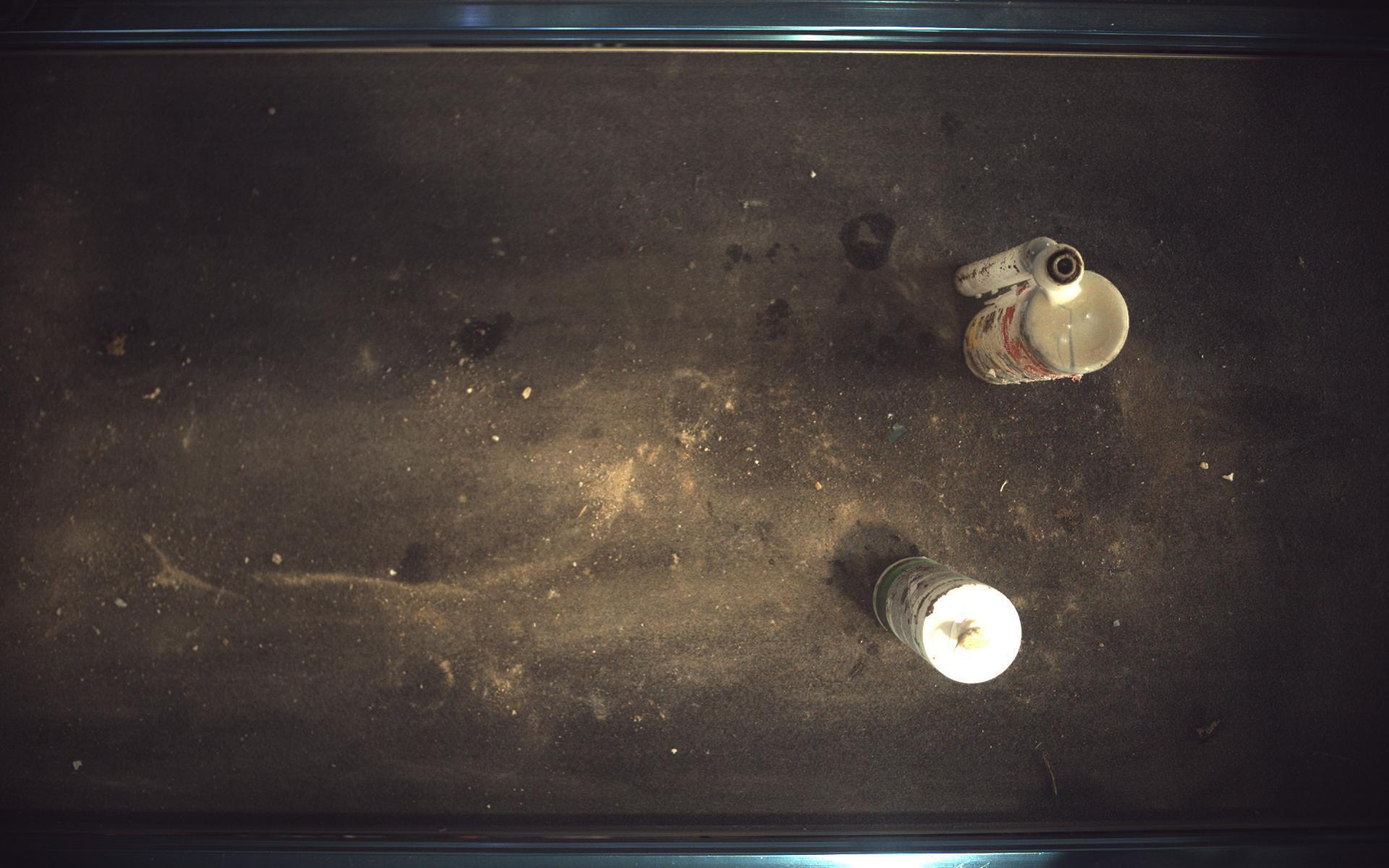plastic: (958, 237, 1131, 385), (875, 558, 1024, 684)
